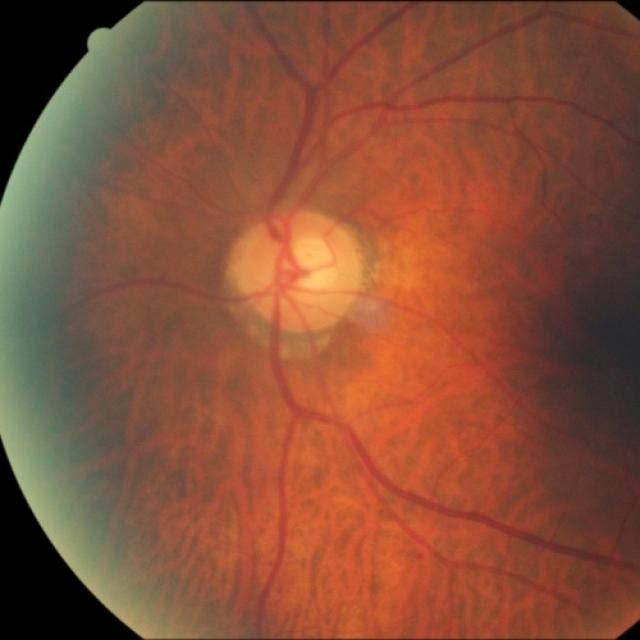OC: (280, 238, 338, 299)
OD: (234, 211, 361, 335)
